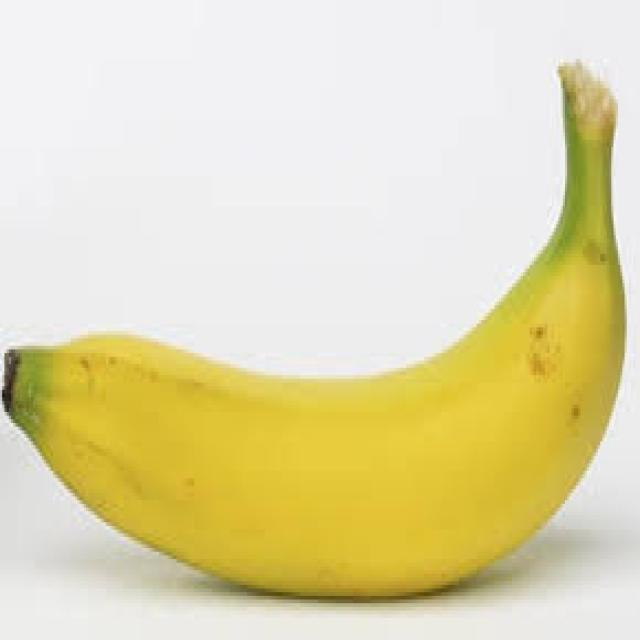banana: (0, 55, 627, 600)
